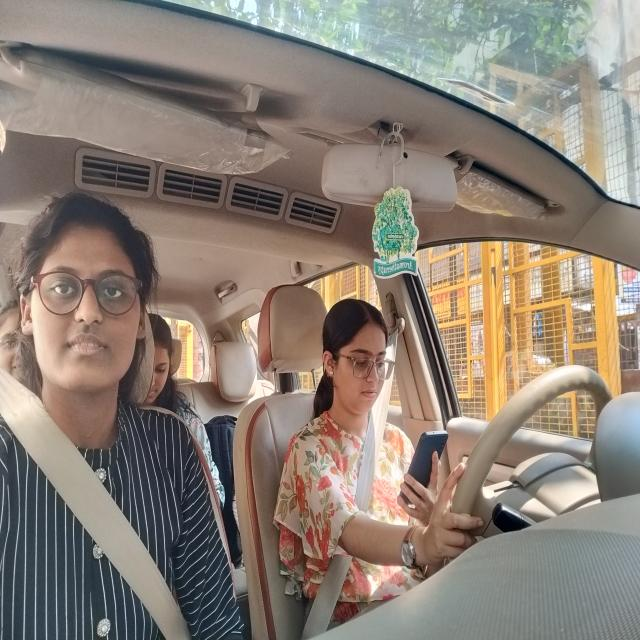mobile: (398, 431, 451, 515)
person: (17, 188, 148, 407), (318, 296, 391, 413), (144, 299, 182, 412), (1, 293, 26, 406)
